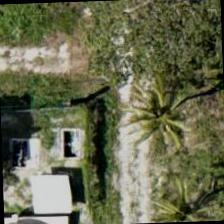Kelapa_Sawit: (112, 83, 205, 176)
